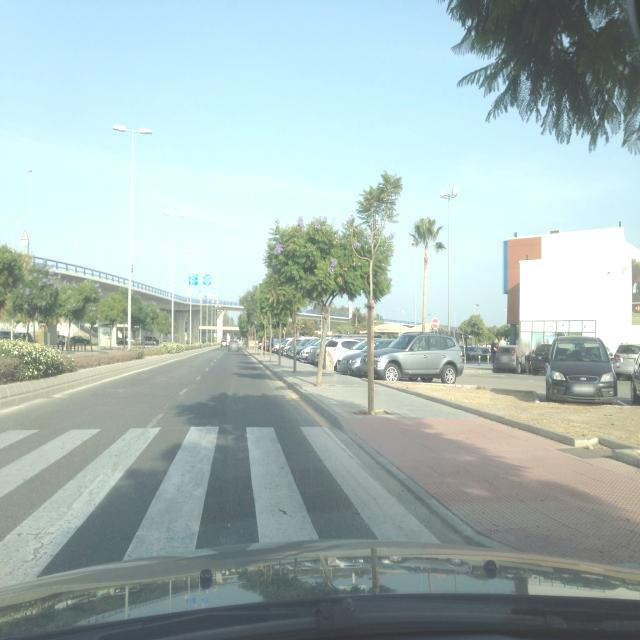car: (363, 330, 465, 384), (544, 334, 618, 404), (335, 338, 394, 375), (312, 338, 362, 370), (609, 342, 640, 380), (492, 344, 523, 374), (528, 342, 553, 376), (629, 336, 640, 412), (295, 337, 320, 361), (284, 338, 304, 357), (276, 337, 292, 355), (269, 337, 282, 353)
